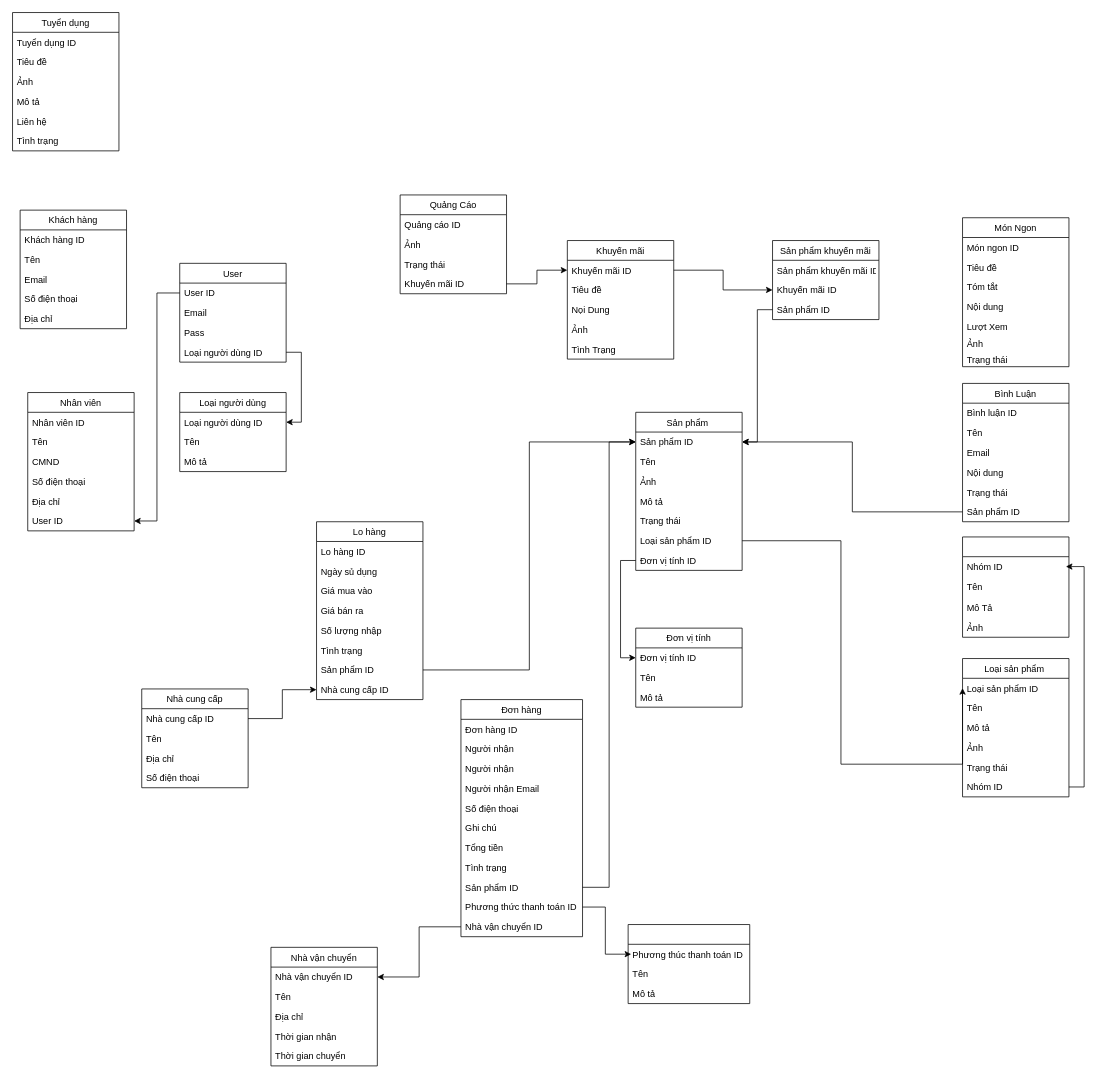
Image size: 1097x1078. Some labels were removed from this diagram. Each missing label, with the box of its shape:
Nhóm sản phẩm: (962, 536, 1069, 637)
Phương thức thanh toán: (627, 924, 750, 1004)
